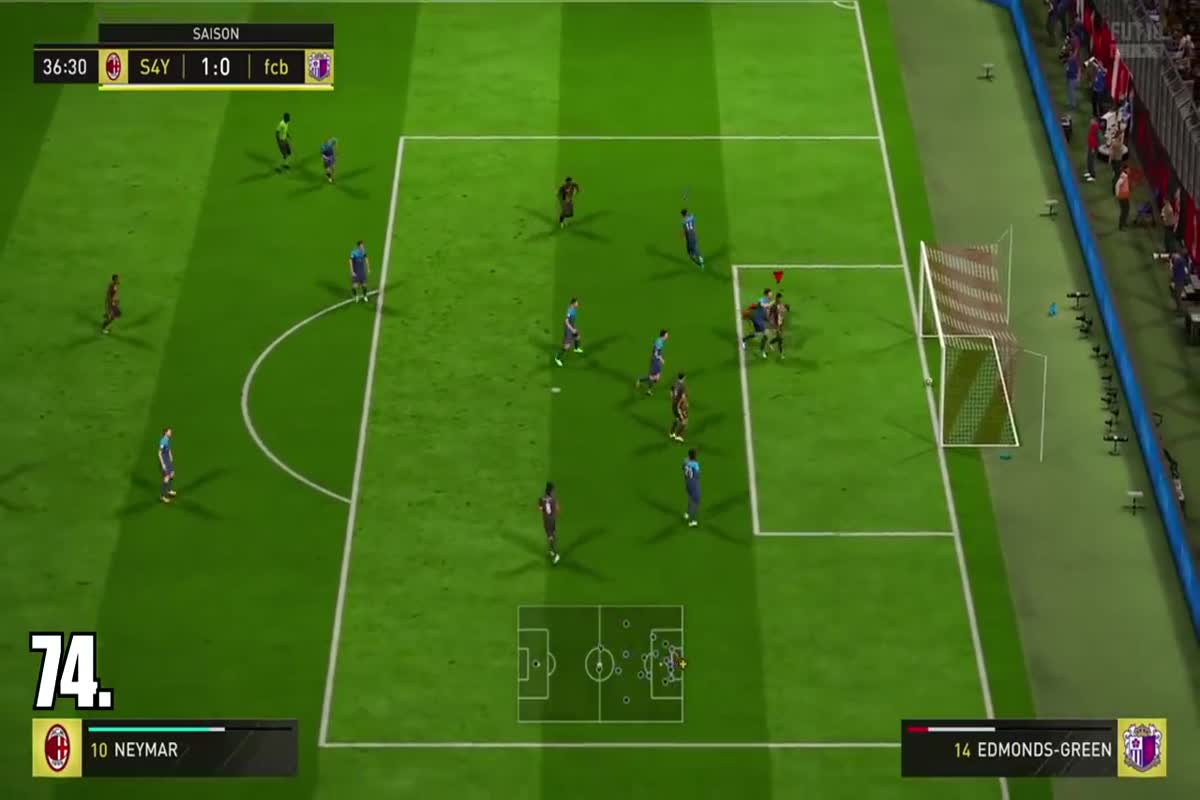ball: (920, 371, 938, 390)
